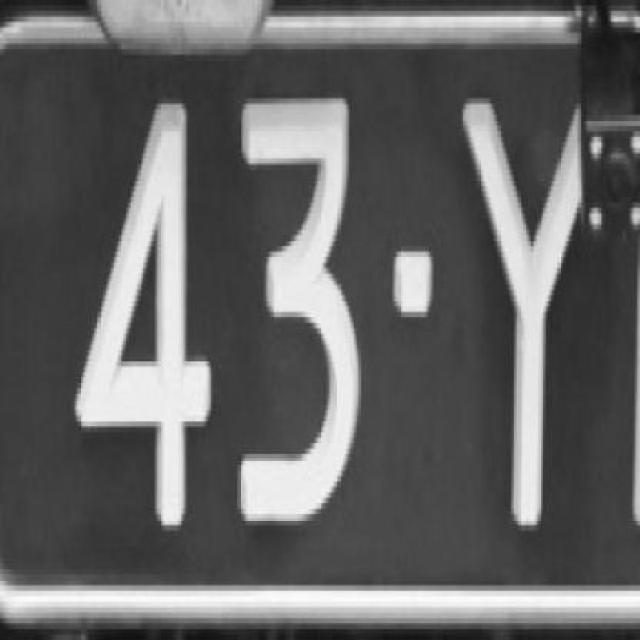licenseplate: (0, 13, 640, 630)
